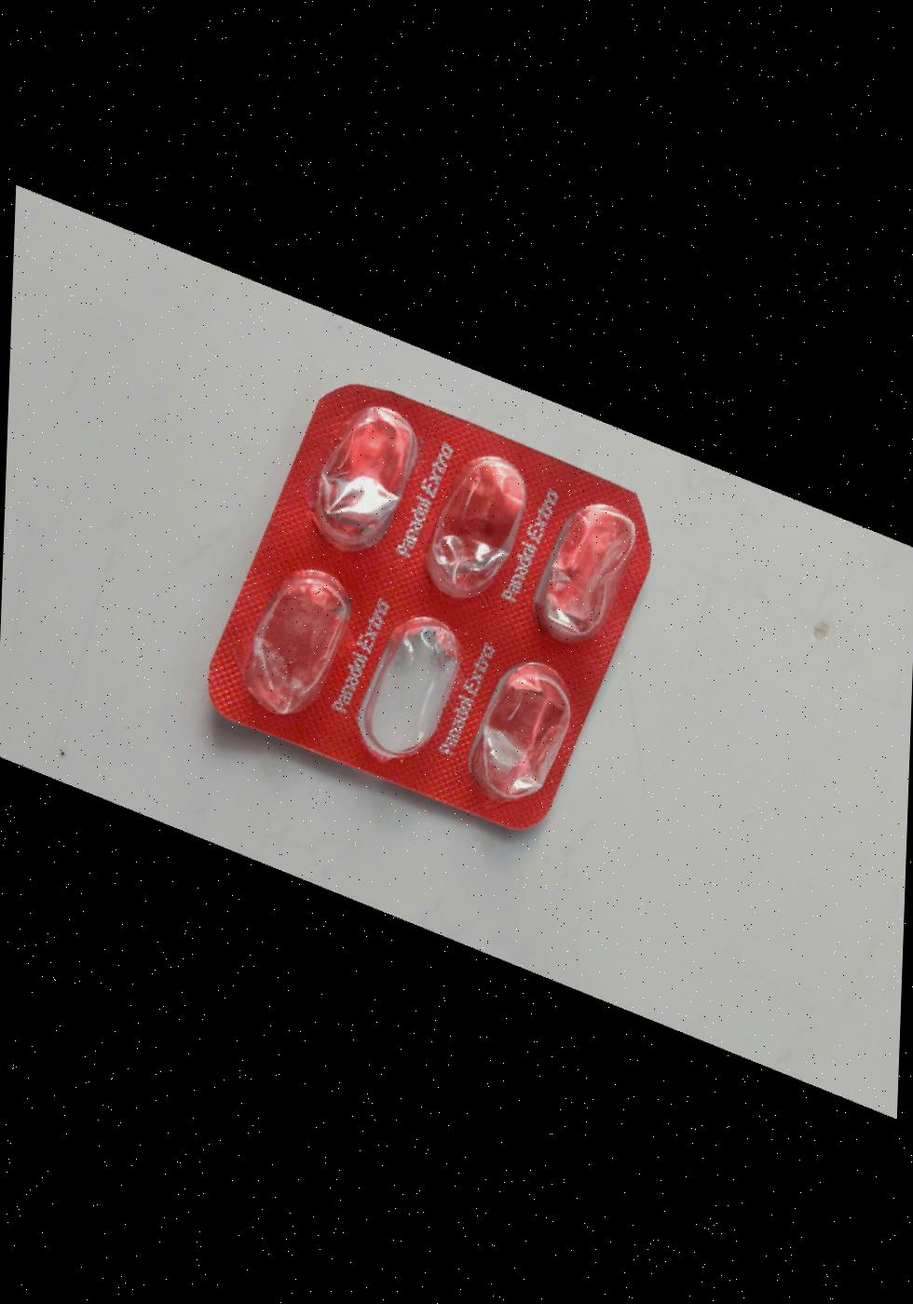Empty: (410, 434, 544, 612), (229, 549, 362, 727), (297, 386, 430, 564), (346, 598, 479, 776), (454, 640, 587, 818), (518, 480, 651, 658)
